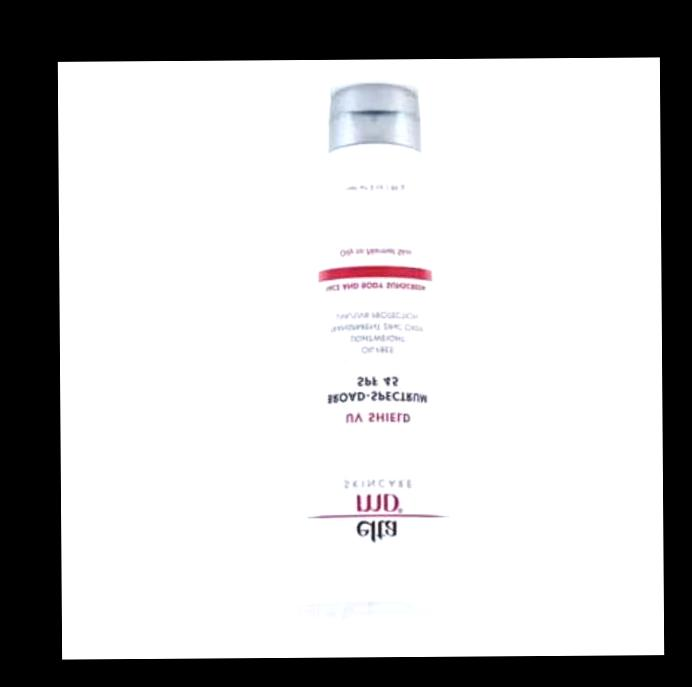cosmetic: (288, 81, 466, 623)
